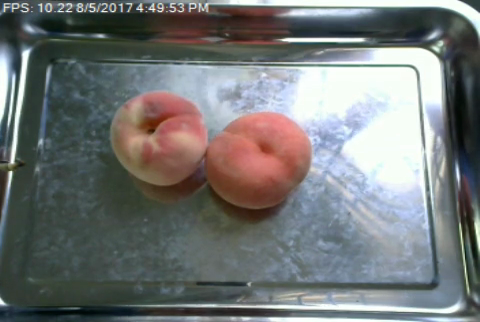Peach: (203, 111, 312, 208), (110, 89, 207, 187)
